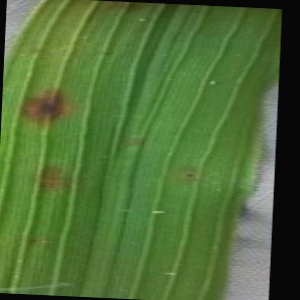Bacterial_Leaf_Blight: (16, 82, 77, 128), (28, 164, 70, 198), (181, 167, 200, 182), (99, 46, 118, 60), (25, 236, 40, 247)
